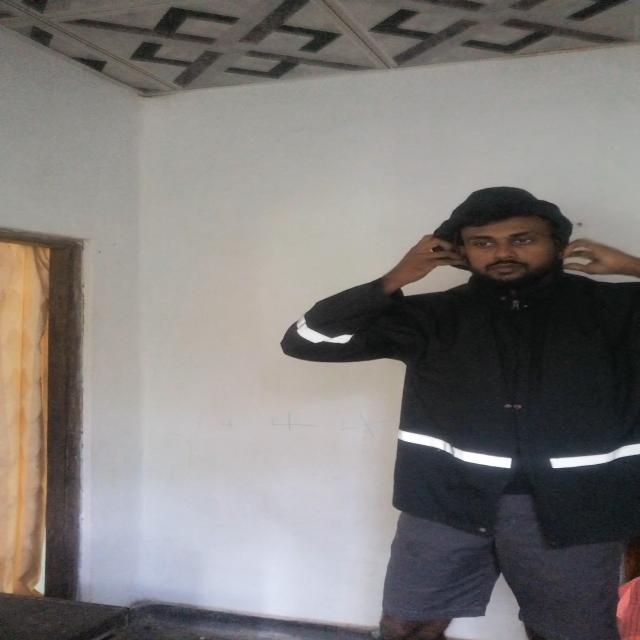Jacket_Wearer: (278, 186, 640, 531)
